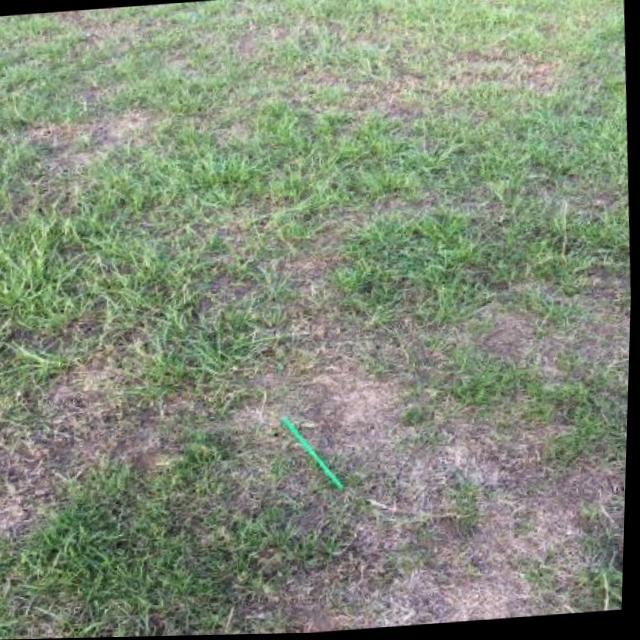plastic: (279, 413, 346, 494)
